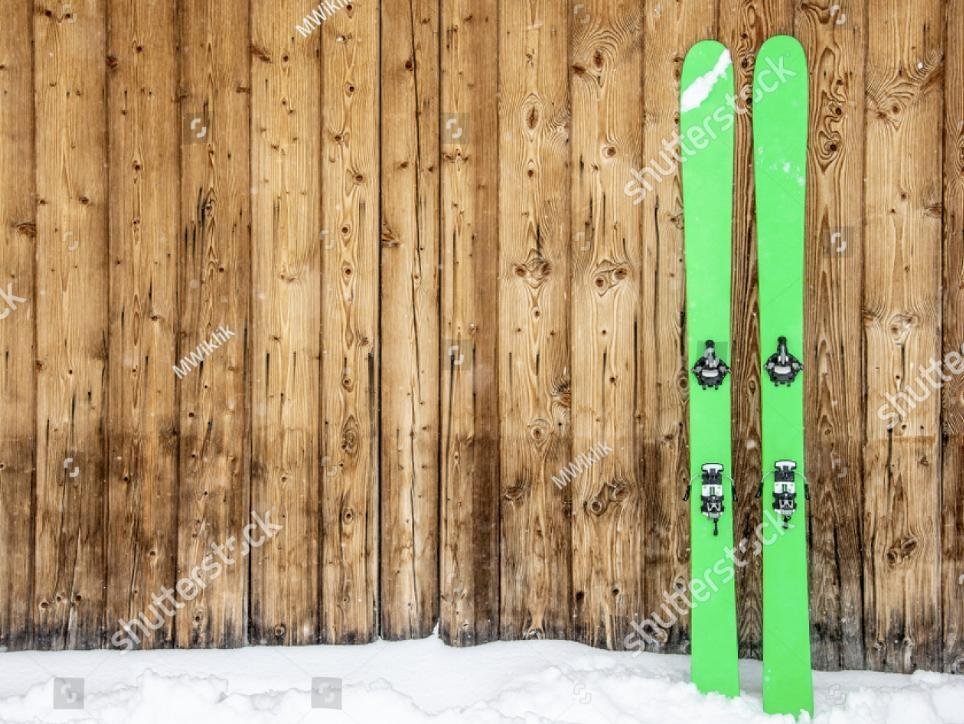Skis: (747, 26, 823, 722), (668, 26, 744, 709)
